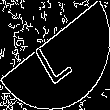L_NW: (32, 25, 78, 85)
